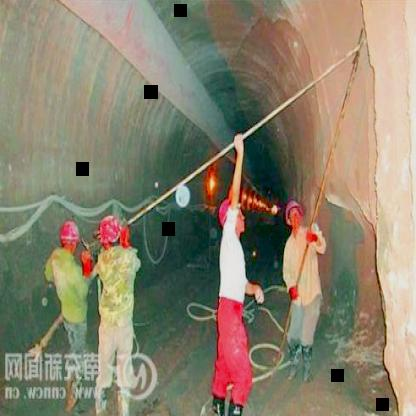helmet: (219, 195, 245, 233), (98, 216, 124, 254), (282, 194, 306, 230), (58, 217, 80, 253)
